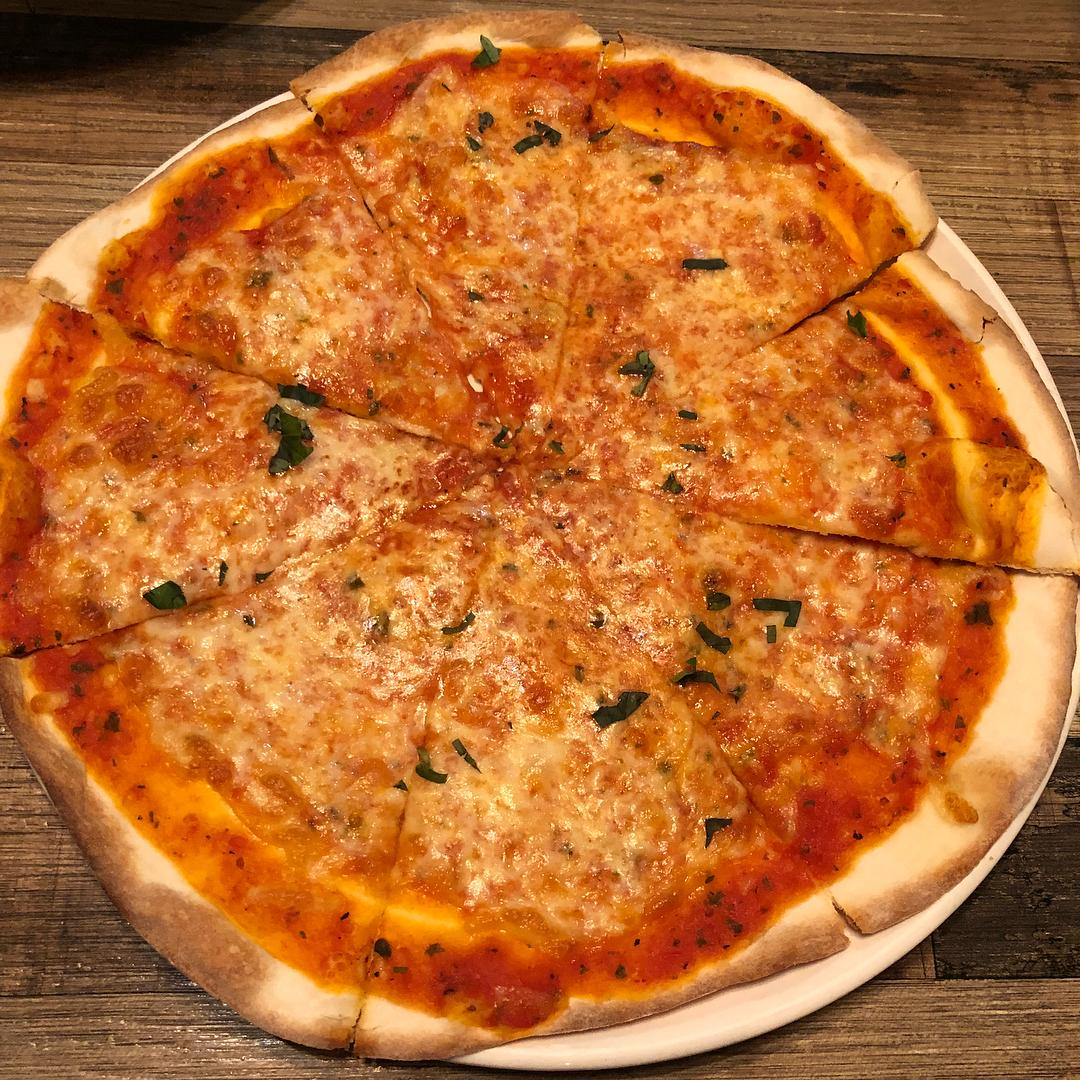Basil: (255, 399, 320, 476), (586, 678, 656, 737), (755, 589, 809, 644), (514, 110, 566, 160), (695, 800, 739, 859), (135, 571, 186, 615), (397, 757, 453, 795), (619, 345, 658, 399), (673, 246, 738, 275), (463, 30, 505, 72), (667, 662, 723, 693), (693, 622, 743, 656), (451, 732, 485, 778), (469, 101, 496, 155), (699, 583, 740, 615)
Pizza: (0, 8, 1080, 1068)
